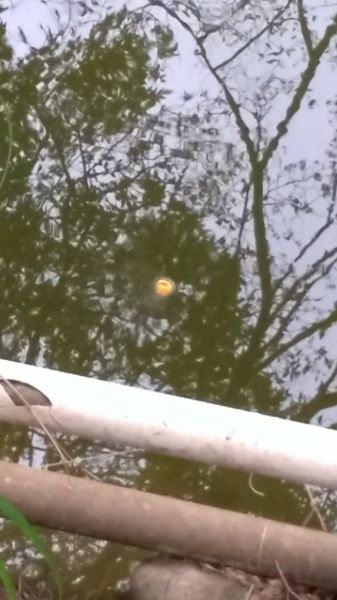eggs: (151, 276, 179, 301)
